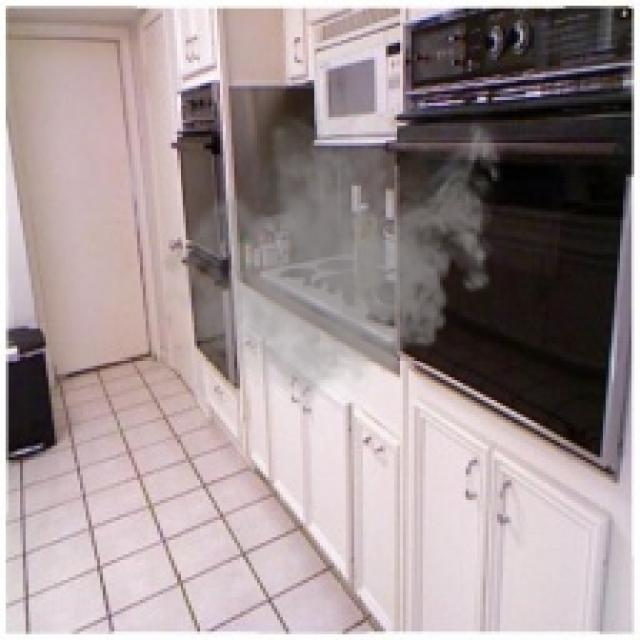smoke: (160, 66, 511, 420)
